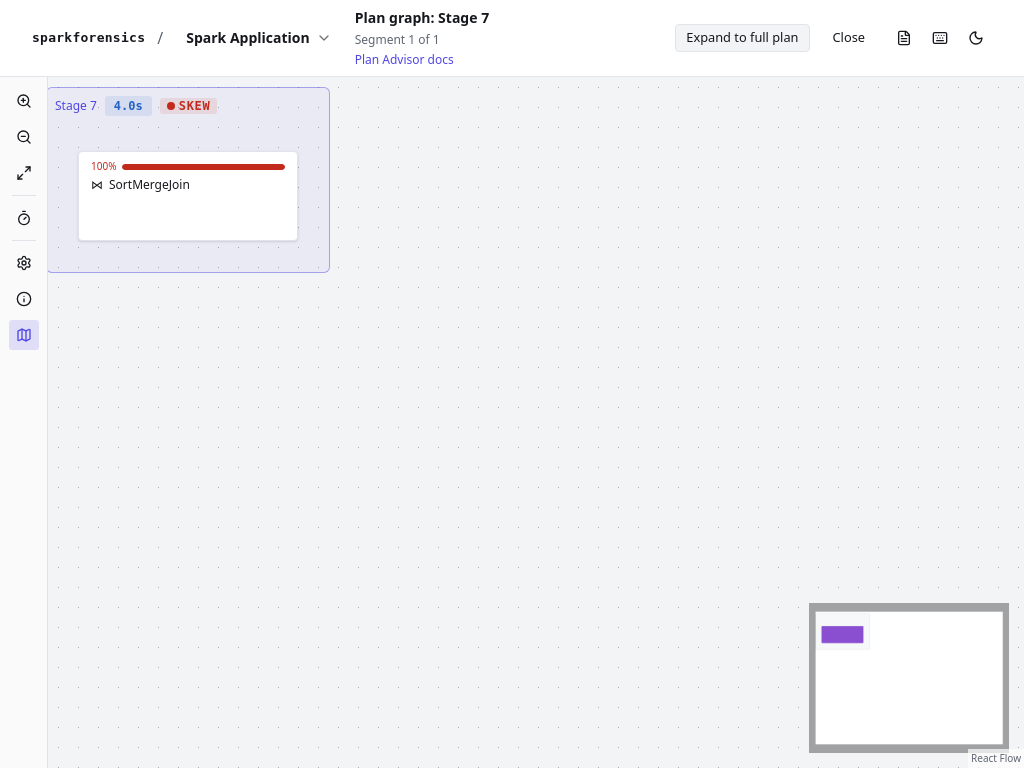
it: stage panel in the plan graph › moves focus into the panel and back to the chip on Escape and on the close button
Click the button "SKEW" at (189, 106), box [160,98,218,114]
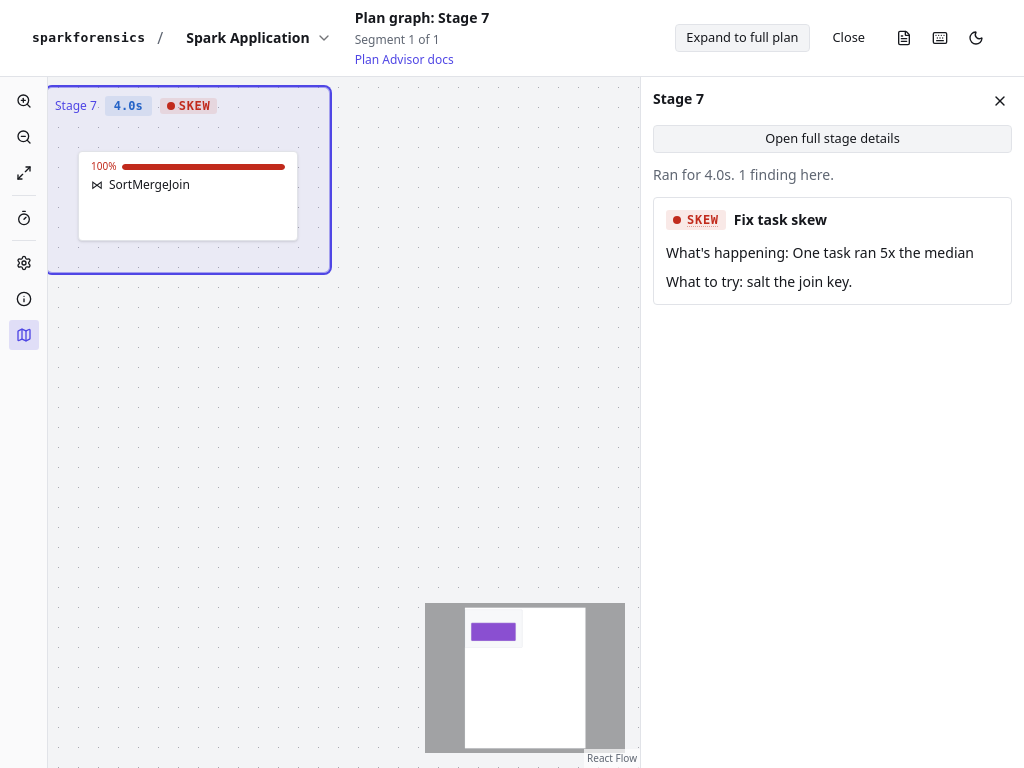
Press Escape
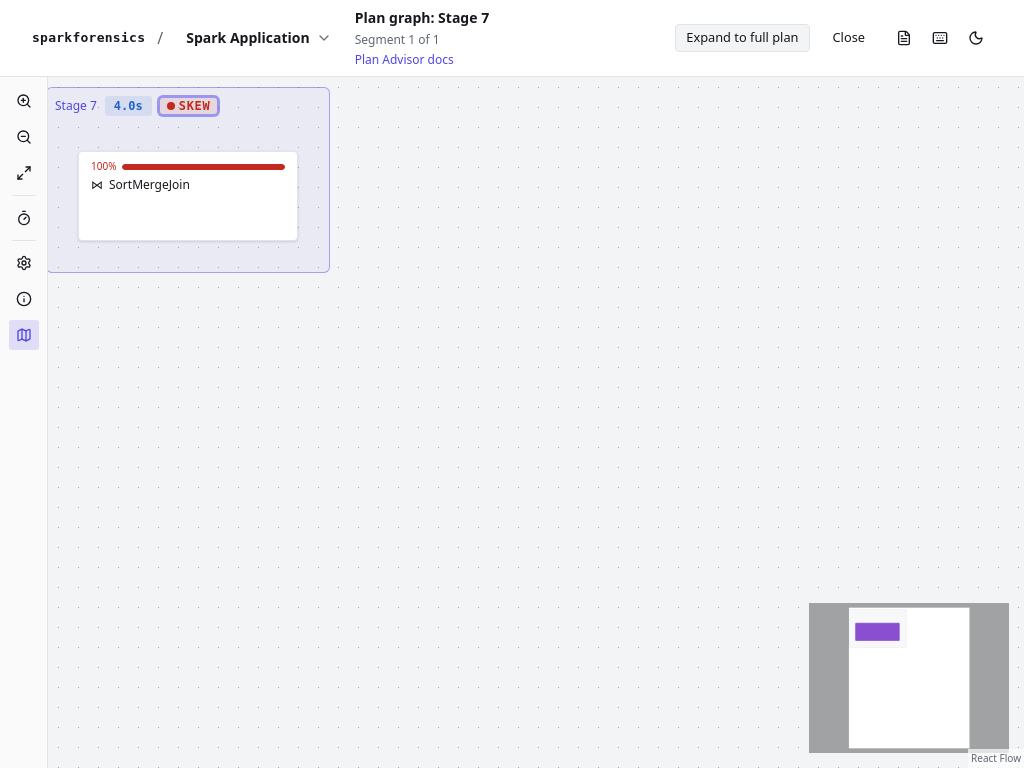
Check: the dialog with test id "plan-stage-detail" is gone
Click the button "Stage 7" at (76, 106), box [55,98,97,114]
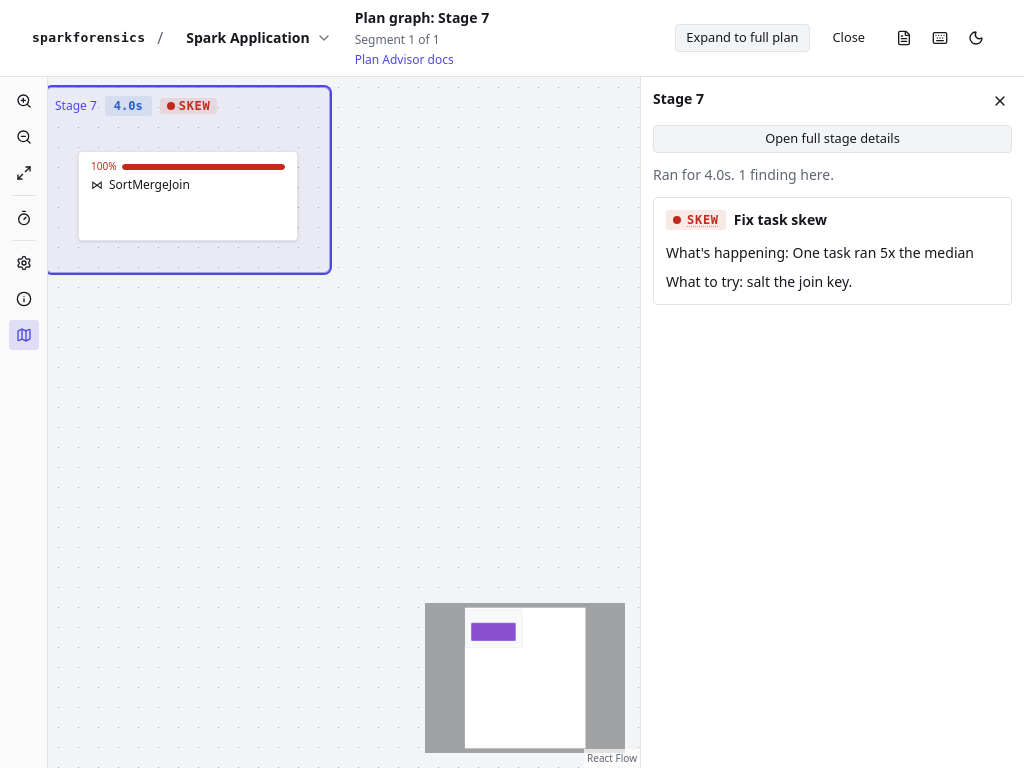
Click the button named "Close stage findings" at (1000, 101), box [988,89,1012,113]
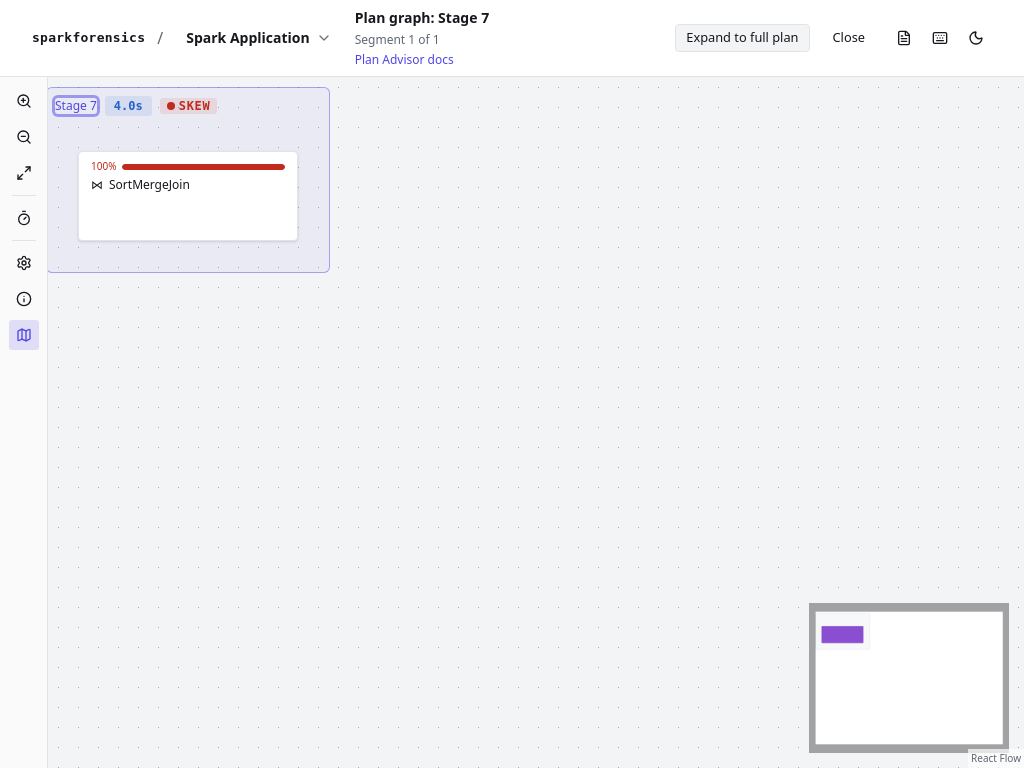
Check: the dialog with test id "plan-stage-detail" is gone
